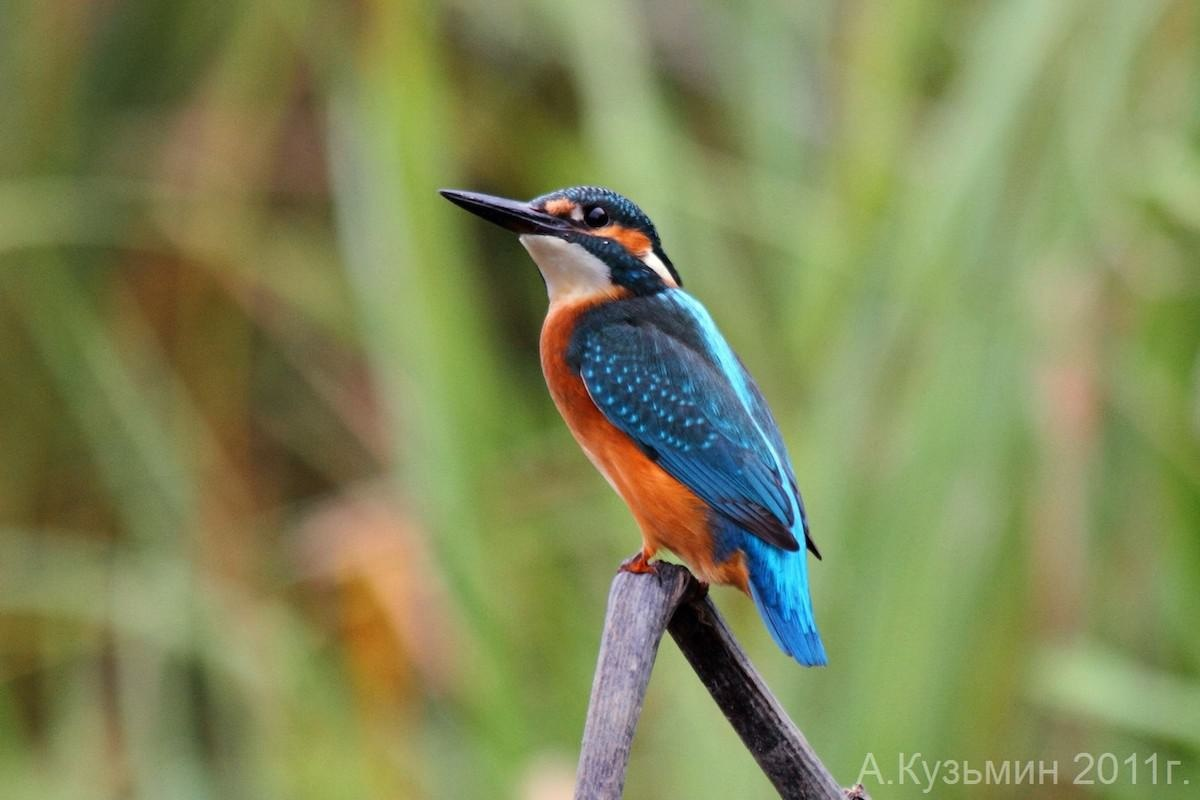kingfisher: (445, 173, 881, 665)
